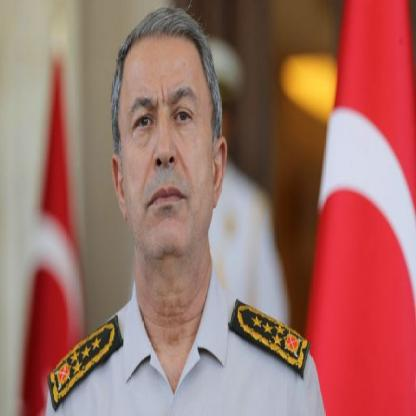person: (104, 7, 237, 272)
